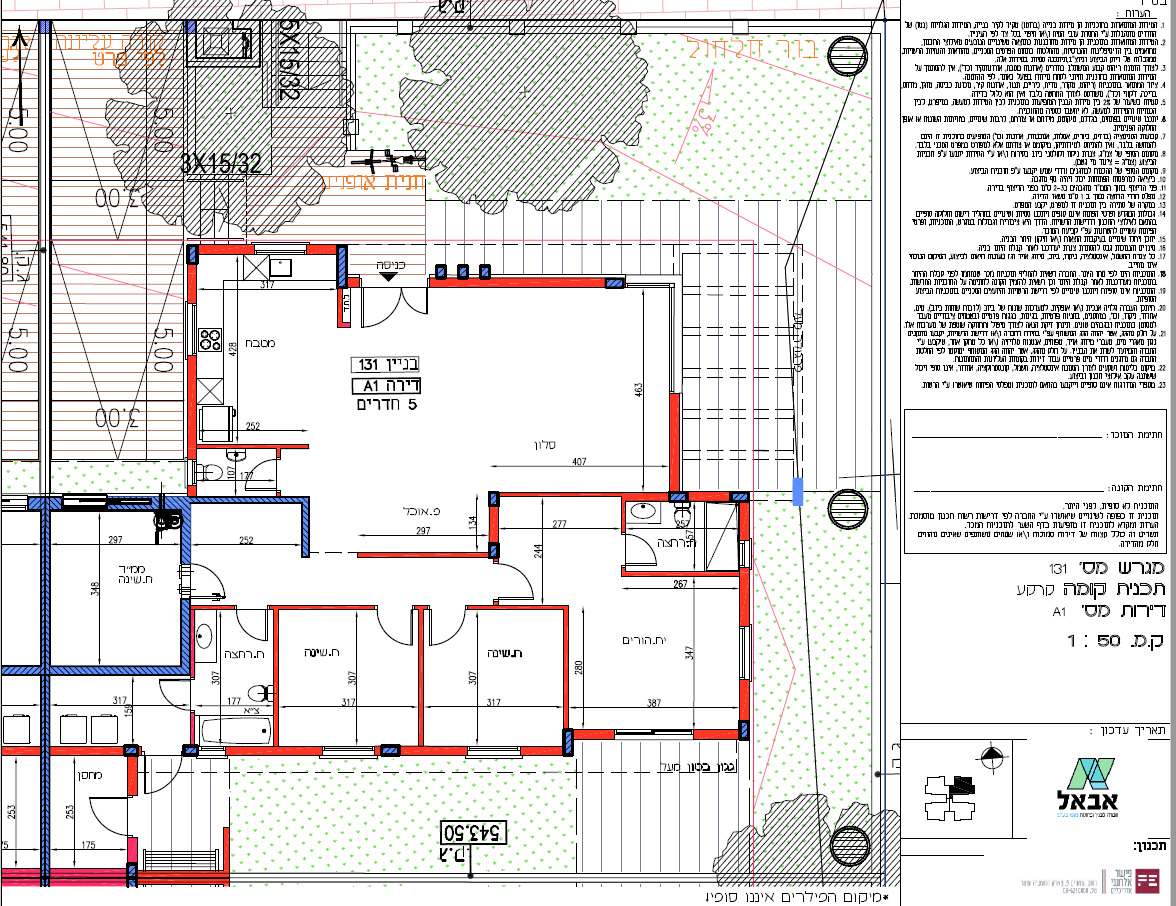door: (356, 289, 437, 334), (86, 793, 124, 838), (427, 611, 470, 648), (373, 614, 416, 651), (229, 609, 272, 646), (145, 677, 188, 714), (141, 758, 184, 795), (628, 531, 662, 569), (503, 565, 537, 603)
window: (614, 729, 694, 743), (738, 626, 754, 680), (322, 745, 374, 760), (468, 745, 520, 760), (253, 241, 305, 255), (184, 303, 196, 356), (738, 539, 753, 570)
